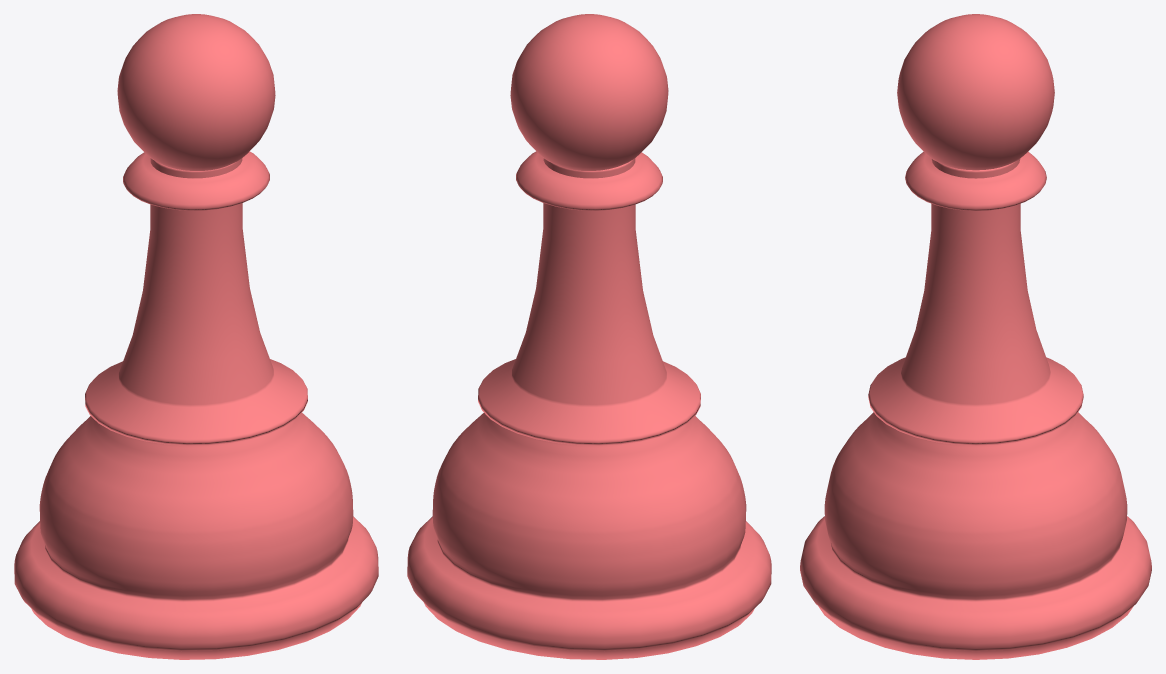
File: pawn_chess.glb
3 renders of one model, left to right at view 1: azimuth 30°, elevation 25°; view 2: azimuth 150°, elevation 25°; view 3: azimuth 270°, elevation 25°, orthographic.
Visible parts, largest first — view 1: Object_2; view 2: Object_2; view 3: Object_2.
Boxes of the visible parts, x1,y1,x2,y2 form: Object_2: (14, 14, 378, 659); Object_2: (407, 14, 771, 659); Object_2: (800, 14, 1151, 659).
Size of the model in its own units: 3.38 by 5.73 by 3.23.
